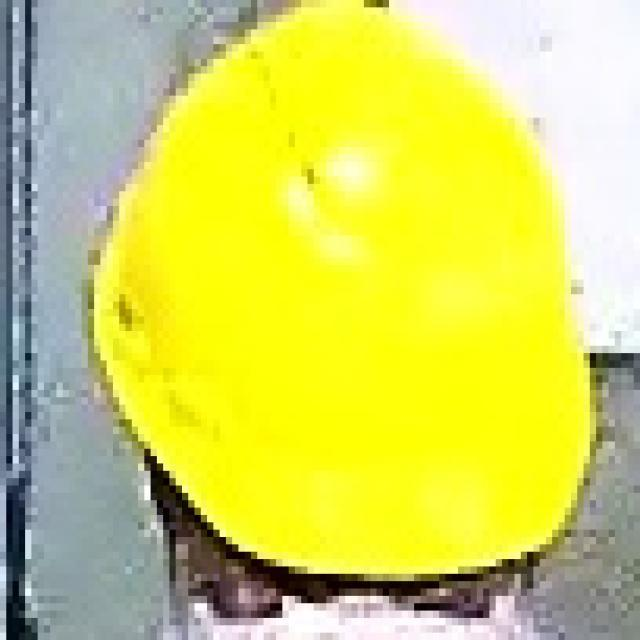yellow helmet: (88, 1, 603, 573)
